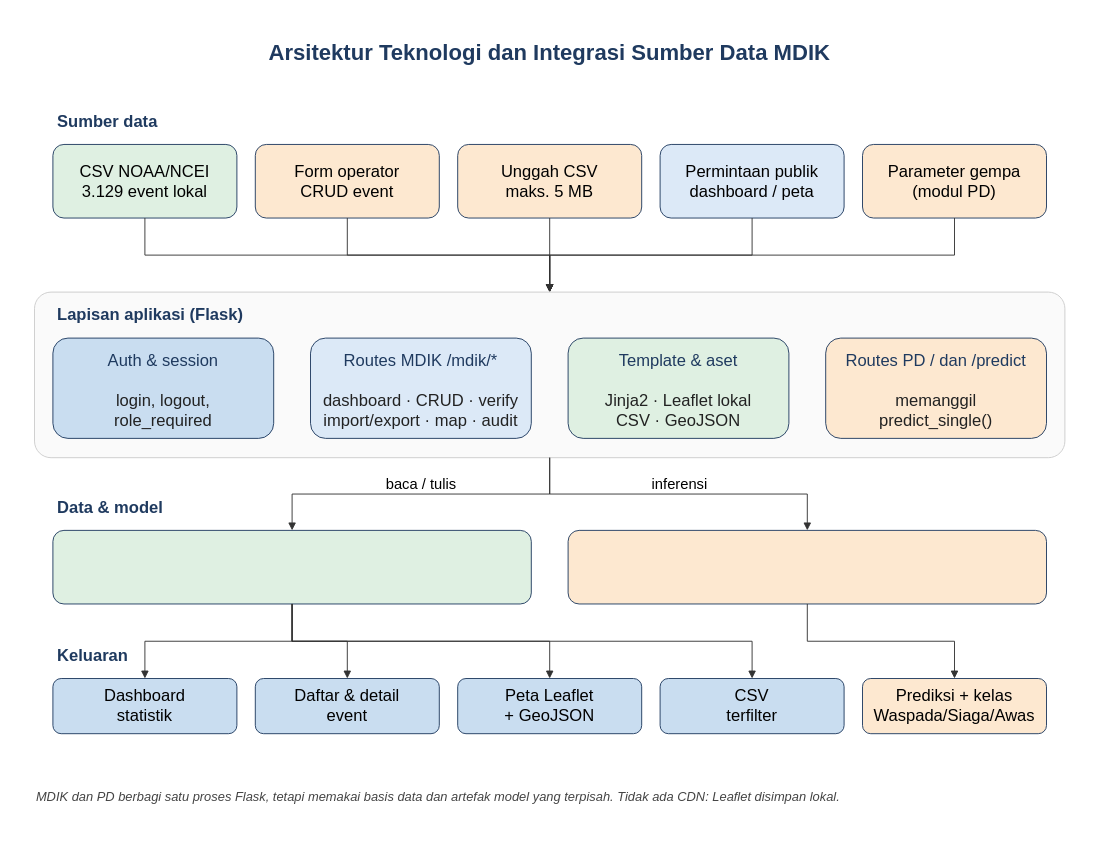
Image size: 1098x841. Some labels were removed from this diagram. Here are the shapes that lost their labels. From the top down, the centre of each, then its label:
the point at 291,566: SQLite instance/mdik.sqlite3 users · events · audit_log · imports
the point at 806,566: Artefak model PD phase_6_deployment predict_single() + thresholds.json
